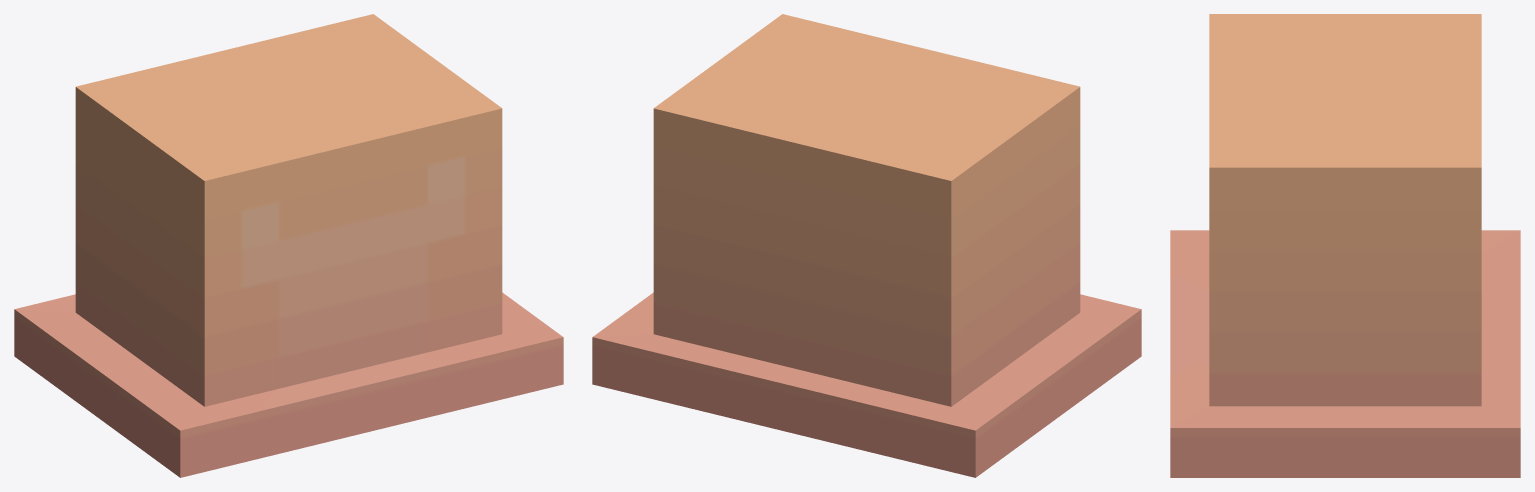
The model's file is Spine020.fbx.
3 renders of one model, left to right at view 1: azimuth 30°, elevation 25°; view 2: azimuth 150°, elevation 25°; view 3: azimuth 270°, elevation 25°, orthographic. The views are drawn at different scales.
Visible parts, largest first — view 1: Spine020; view 2: Spine020; view 3: Spine020.
Part boxes in pixels (box(x1,y1,x2,y2)): Spine020: box(14, 14, 563, 477); Spine020: box(592, 14, 1141, 477); Spine020: box(1170, 14, 1520, 477).
Size of the model in its own units: 10.29 by 7 by 7.72.
